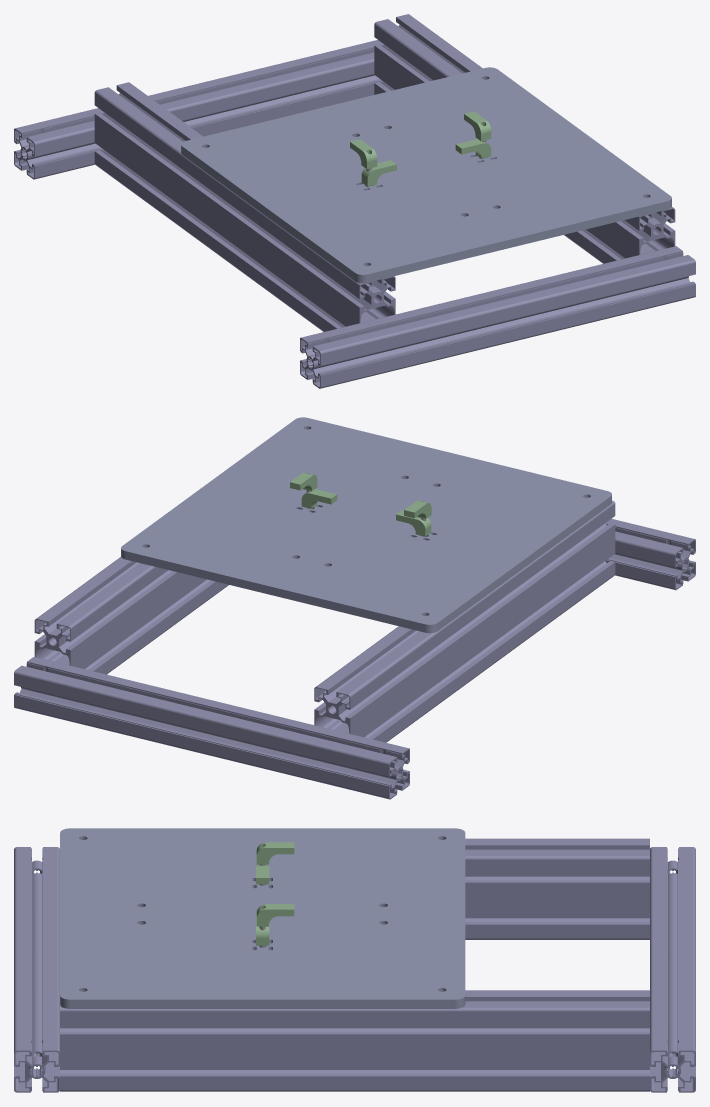
Rendered from BD_PickFixture.dae.
The picture shows the model from 3 angles, top to bottom: view 1: azimuth 30°, elevation 25°; view 2: azimuth 150°, elevation 25°; view 3: azimuth 270°, elevation 25°; orthographic projection. The views are drawn at different scales.
Visible parts, largest first — view 1: node16; view 2: node16; view 3: node16.
Part boxes in pixels (x1=…): node16: x1=14, y1=14, x2=695, y2=388; node16: x1=14, y1=417, x2=695, y2=799; node16: x1=14, y1=828, x2=695, y2=1092.
Bounding box in the file's own units: 0.47 × 0.665 × 0.1409.
